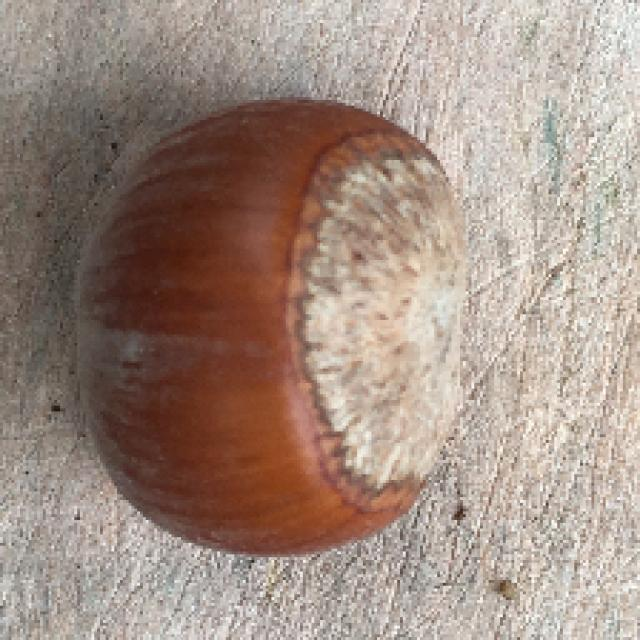qualityHazelnut: (59, 86, 490, 557)
